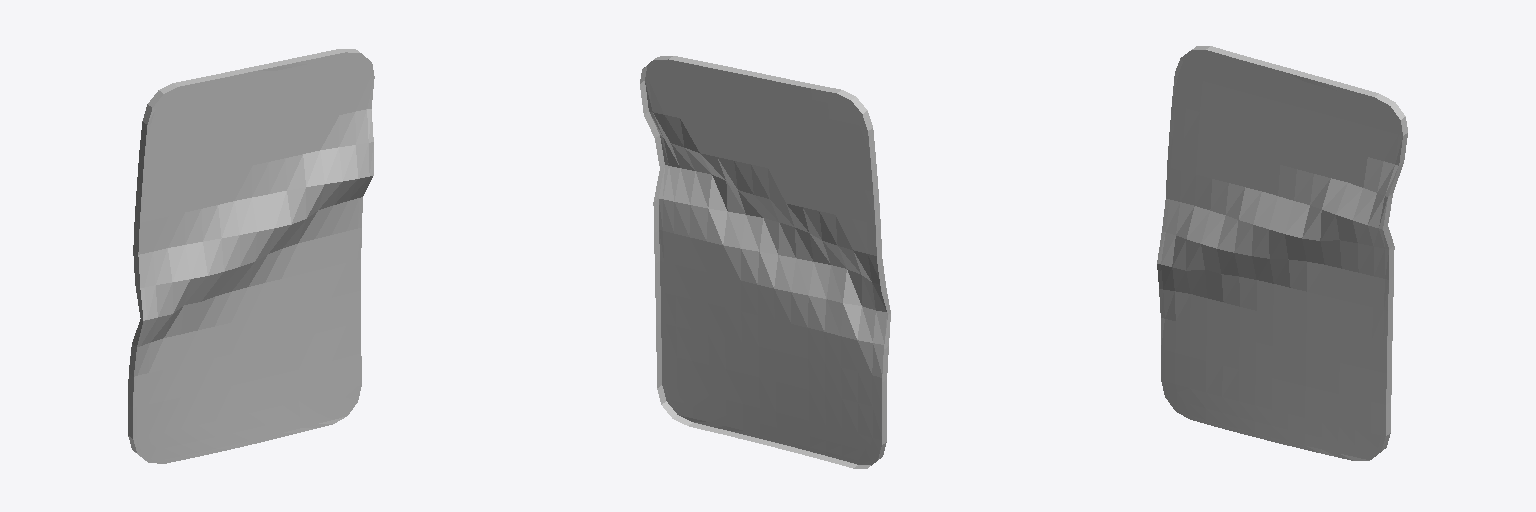
File: am_carpet01.obj
3 views of the same model, side by side, from view 1: azimuth 30°, elevation 25°; view 2: azimuth 150°, elevation 25°; view 3: azimuth 330°, elevation 25° (orthographic).
Visible parts, largest first — view 1: am_carpet01; view 2: am_carpet01; view 3: am_carpet01.
Boxes of the visible parts, x1=… form: am_carpet01: x1=128, y1=49, x2=374, y2=463; am_carpet01: x1=640, y1=56, x2=890, y2=468; am_carpet01: x1=1157, y1=46, x2=1407, y2=460.
Bounding box in the file's own units: 40.52 × 59.66 × 4.32.